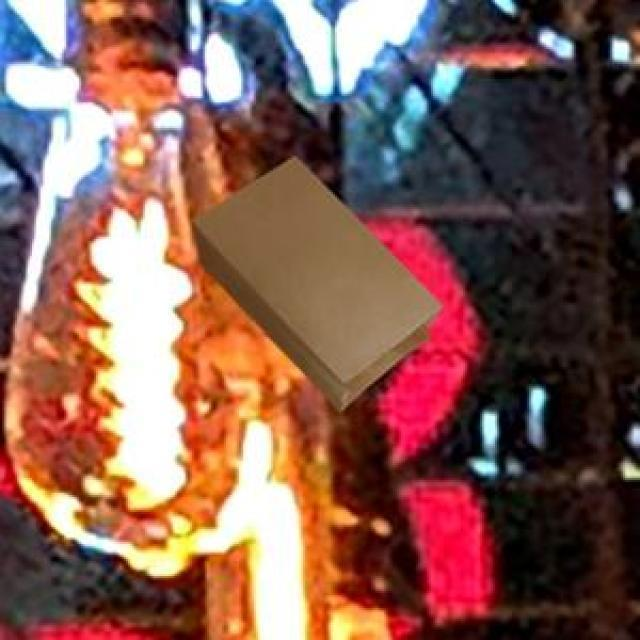paper: (191, 154, 437, 408)
